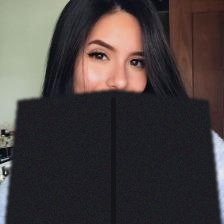Cadar_Niqab: (4, 0, 221, 224)
